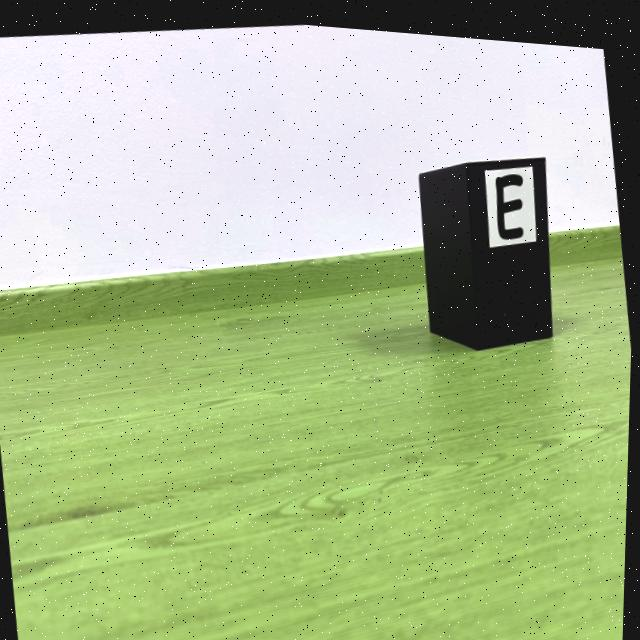E: (496, 164, 524, 230)
